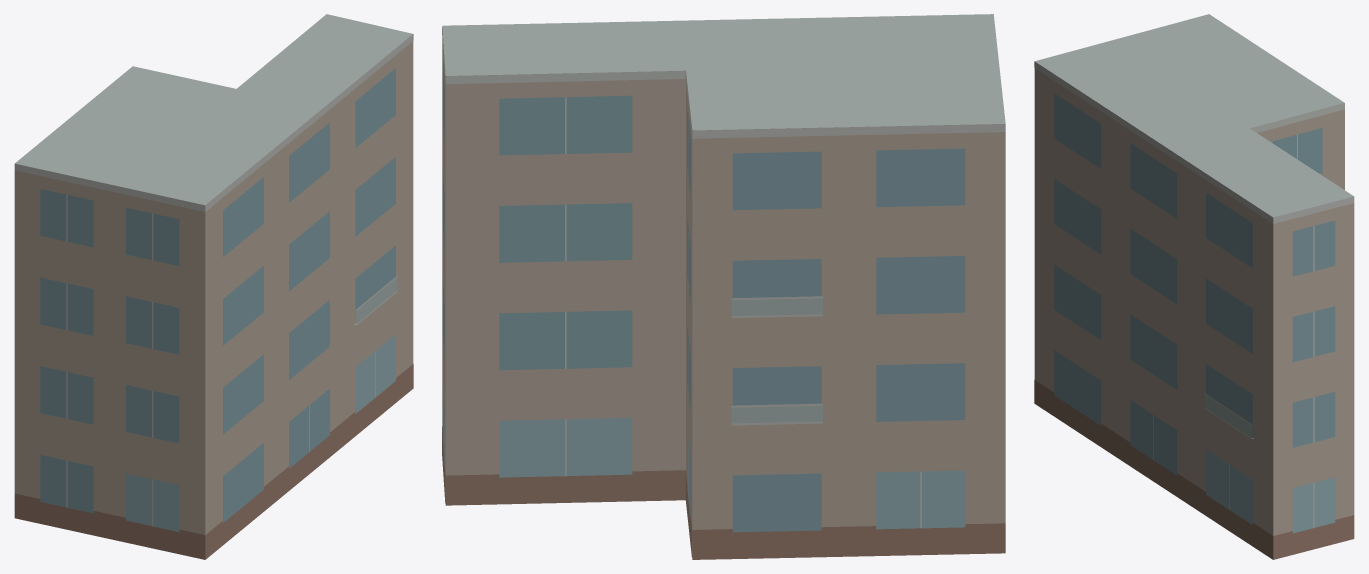
File: survey-upis-32827375.glb
The picture shows the model from 3 angles, left to right: view 1: azimuth 30°, elevation 25°; view 2: azimuth 150°, elevation 25°; view 3: azimuth 270°, elevation 25°; orthographic projection. The views are drawn at different scales.
Parts seen in each view (by area): view 1: survey-upis-32827375.tmp; view 2: survey-upis-32827375.tmp; view 3: survey-upis-32827375.tmp.
Part boxes in pixels (x1,y1,x2,y2): survey-upis-32827375.tmp: (14,14,413,559); survey-upis-32827375.tmp: (442,14,1005,559); survey-upis-32827375.tmp: (1034,14,1354,559).
Bounding box in the file's own units: 16.33 × 12.8 × 10.85.
